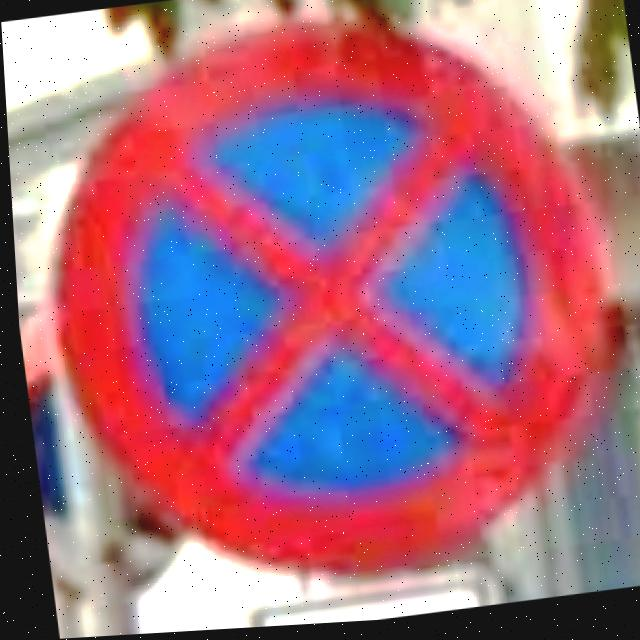nopark: (47, 17, 612, 579)
